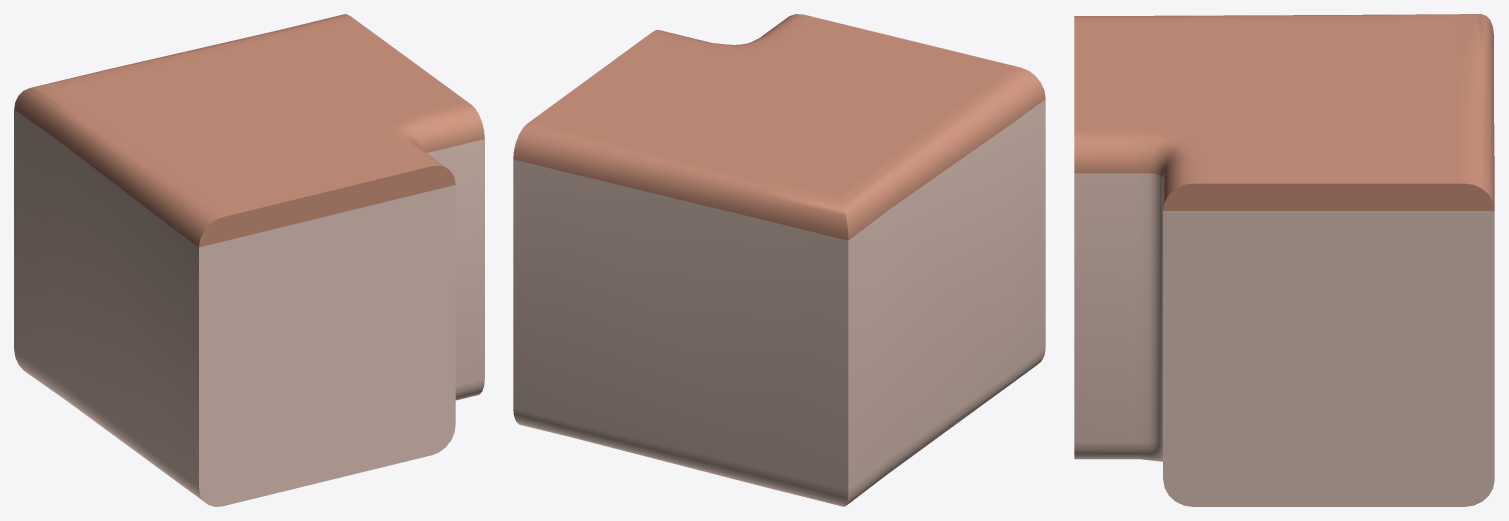
The model's file is Cupboard Tilt A.fbx.
3 views of the same model, side by side, from view 1: azimuth 30°, elevation 25°; view 2: azimuth 150°, elevation 25°; view 3: azimuth 270°, elevation 25° (orthographic). The views are drawn at different scales.
Visible parts, largest first — view 1: Cupboard.007; view 2: Cupboard.007; view 3: Cupboard.007.
Boxes of the visible parts, <box> form: Cupboard.007: <box>14,14,484,506</box>; Cupboard.007: <box>513,14,1045,506</box>; Cupboard.007: <box>1074,14,1494,506</box>.
Size of the model in its own units: 2.09 by 1.78 by 2.09.
